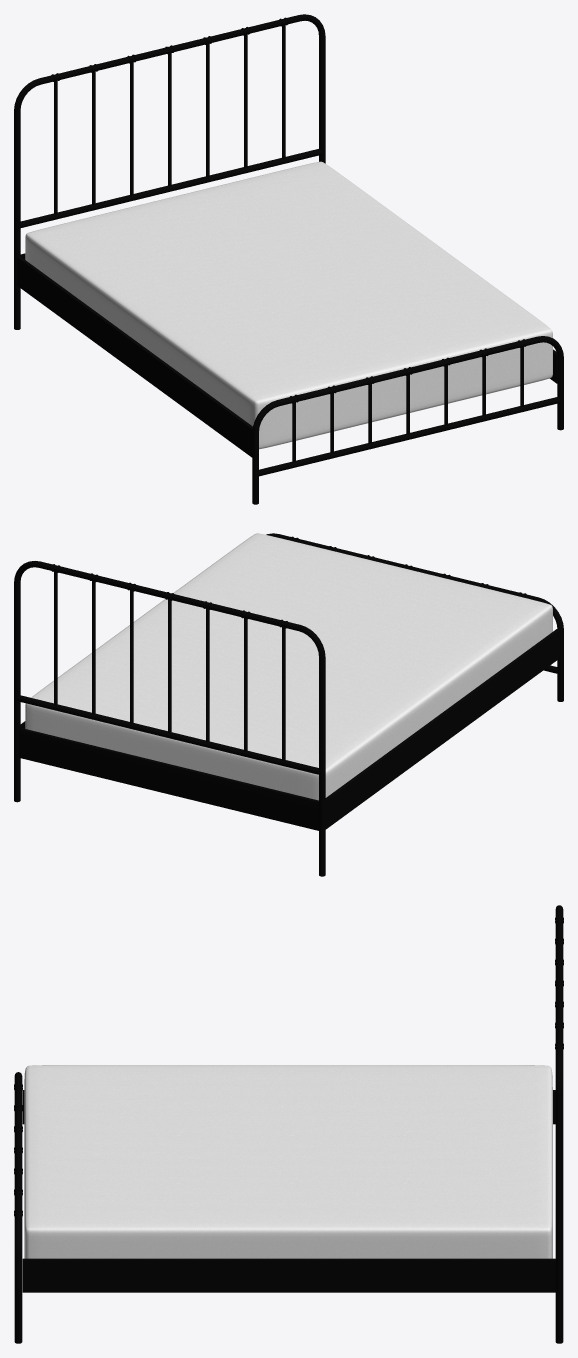
The model's file is bedframe.fbx.
3 views of the same model, one above another, from view 1: azimuth 30°, elevation 25°; view 2: azimuth 150°, elevation 25°; view 3: azimuth 270°, elevation 25° (orthographic). The views are drawn at different scales.
Visible parts, largest first — view 1: bed; view 2: bed; view 3: bed.
Part boxes in pixels (left/top/right/bottom): bed: left=14, top=14, right=563, bottom=504; bed: left=14, top=533, right=563, bottom=876; bed: left=14, top=905, right=563, bottom=1343.
Bounding box in the file's own units: 207 × 153 × 116.
1 material, 1 textured.
